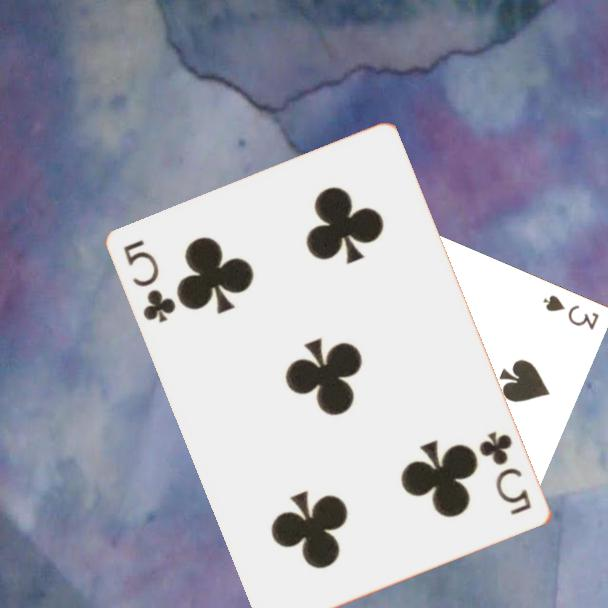c05: (120, 236, 180, 326), (476, 428, 535, 519)
s03: (539, 292, 601, 333)
